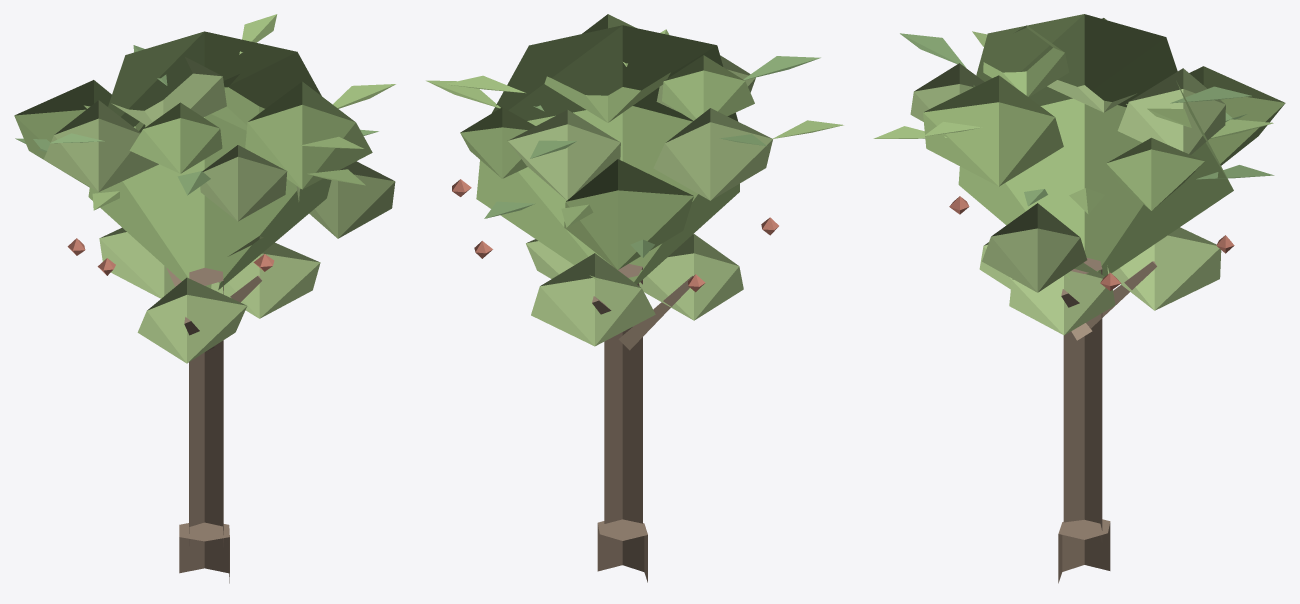
The model's file is shu.yinxing@fruiting__spring.glb.
3 views of the same model, side by side, from view 1: azimuth 30°, elevation 25°; view 2: azimuth 150°, elevation 25°; view 3: azimuth 270°, elevation 25° (orthographic). The views are drawn at different scales.
Parts seen in each view (by area): view 1: shu.yinxing@fruiting__spring; view 2: shu.yinxing@fruiting__spring; view 3: shu.yinxing@fruiting__spring.
Part boxes in pixels (x1,y1,x2,y2): shu.yinxing@fruiting__spring: (14,14,395,583); shu.yinxing@fruiting__spring: (426,14,843,582); shu.yinxing@fruiting__spring: (873,14,1285,583).
Bounding box in the file's own units: 9.93 × 14.35 × 9.57.
